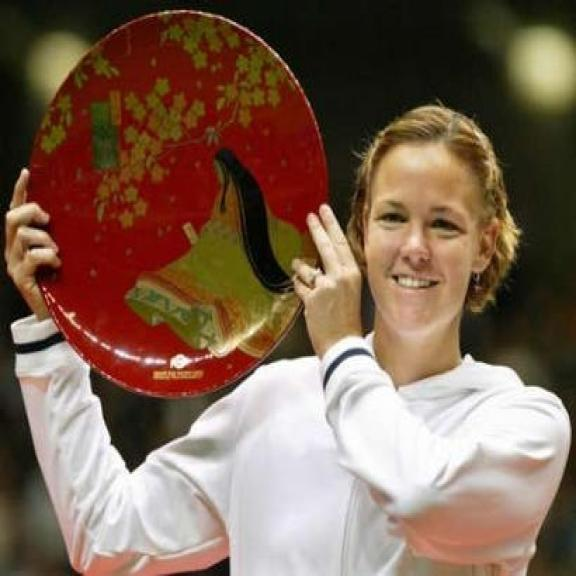face: (354, 123, 504, 340)
